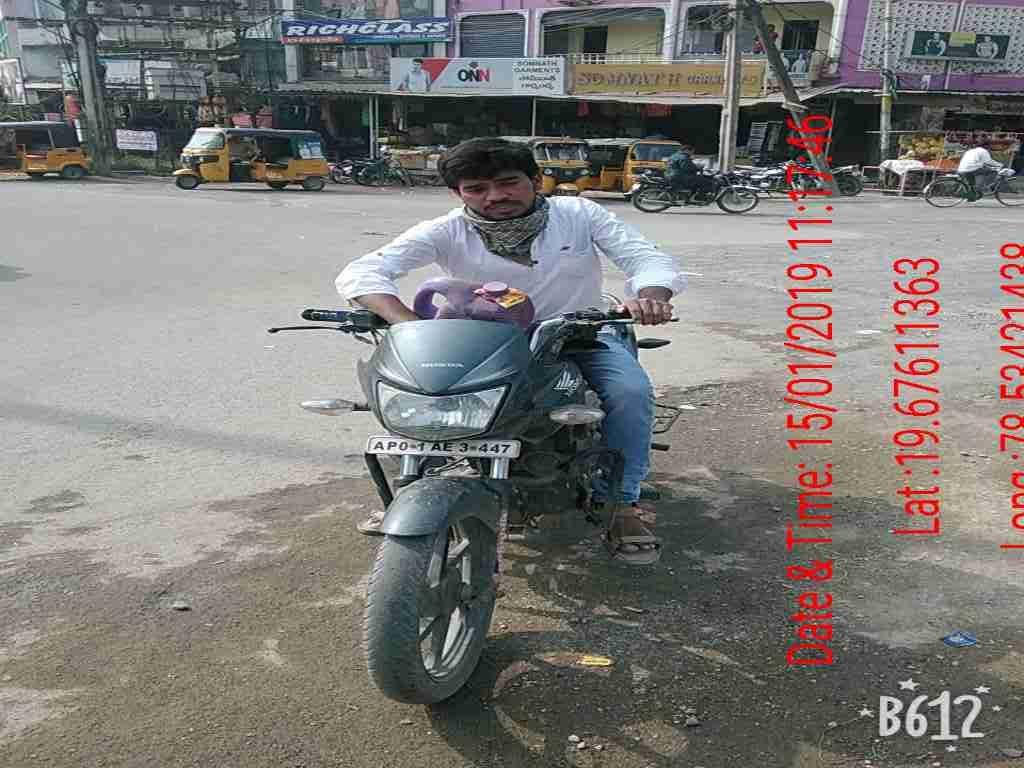plate: (367, 432, 531, 464)
